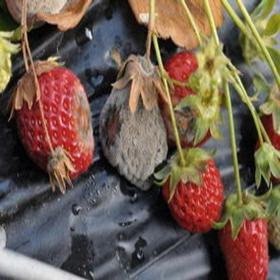Gray Mold: (99, 54, 169, 191), (66, 83, 95, 153)
